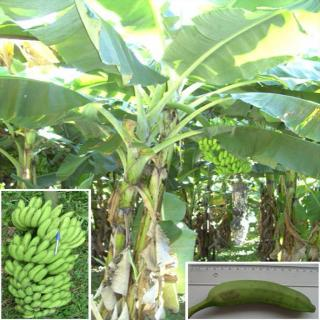Banana: (0, 188, 92, 319), (188, 279, 316, 318), (197, 116, 254, 176)
